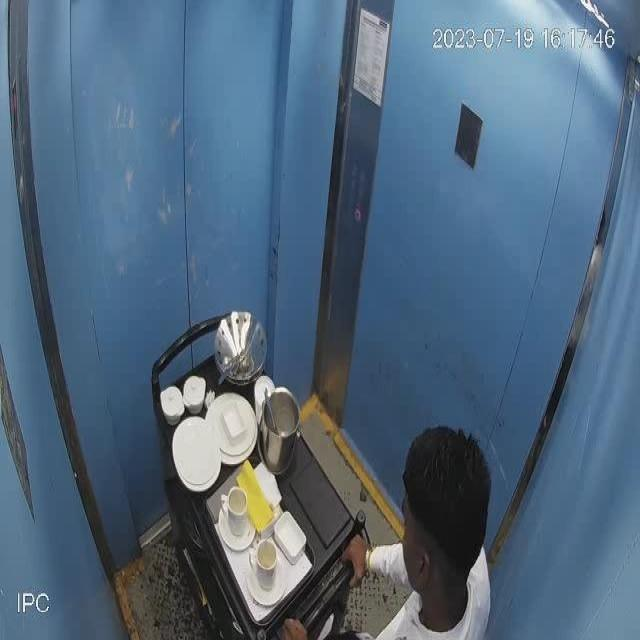person: (332, 428, 505, 636)
